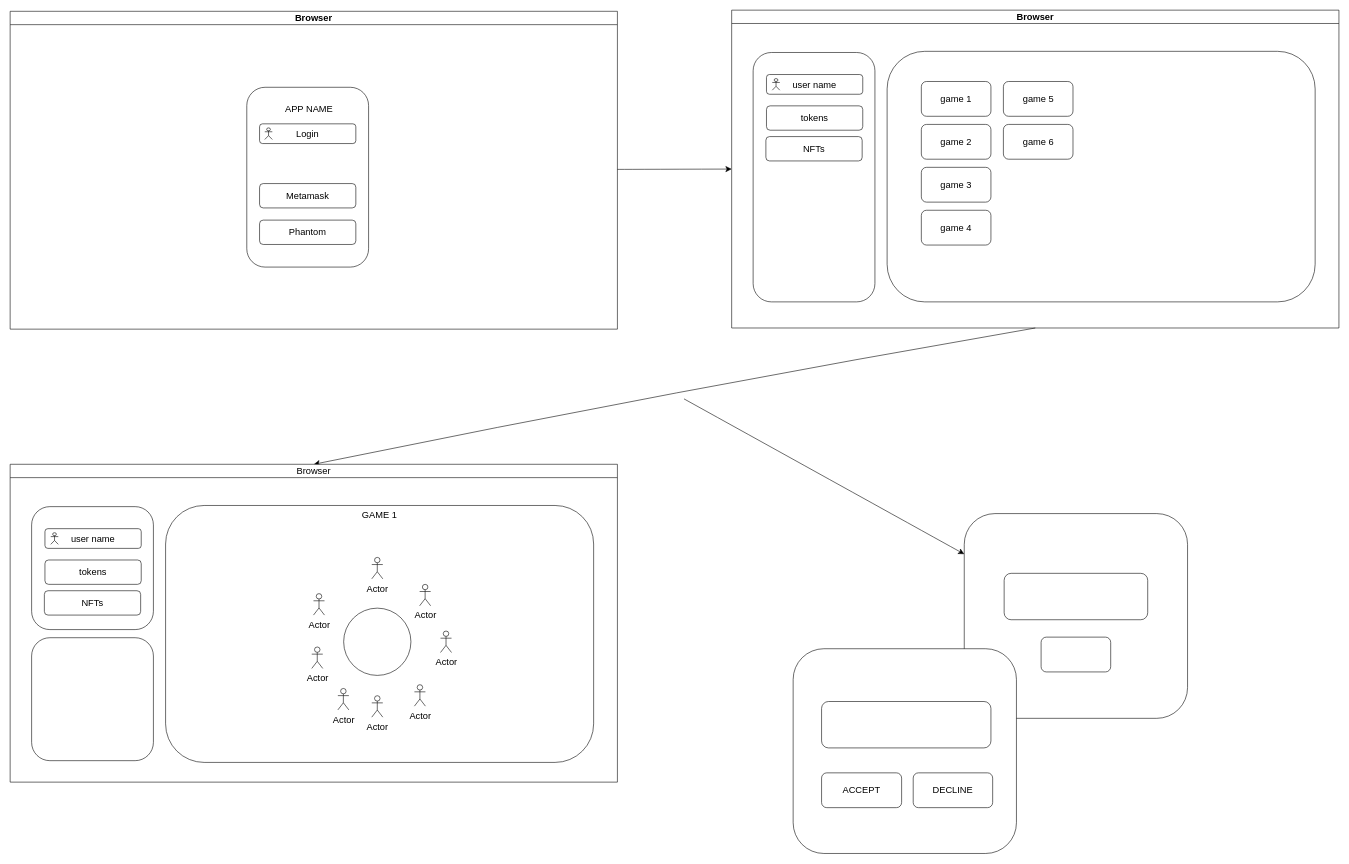
Some shapes in this 1349 by 864 pixel diagram are drawn without their labels. Here are the shapes that lost their labels. From the top down, the centre of each, then its label:
(x=1076, y=596): HOW MUCH YOU WANT TO BET?
(x=92, y=699): Dane gry (z kim gramy, pokoj whatever, o co gramy itd.)
(x=906, y=724): THIS GAME REQUIRES TO BET 10 TOKENS
